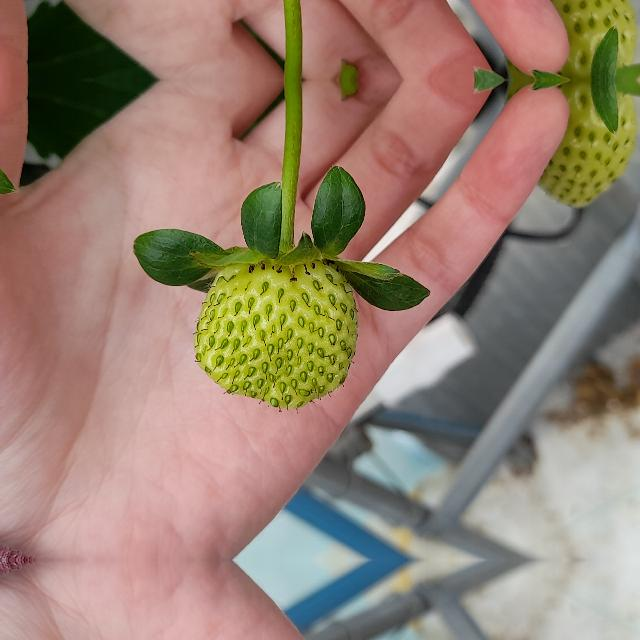Health_25: (194, 260, 358, 408), (530, 80, 638, 214), (530, 0, 638, 80)
